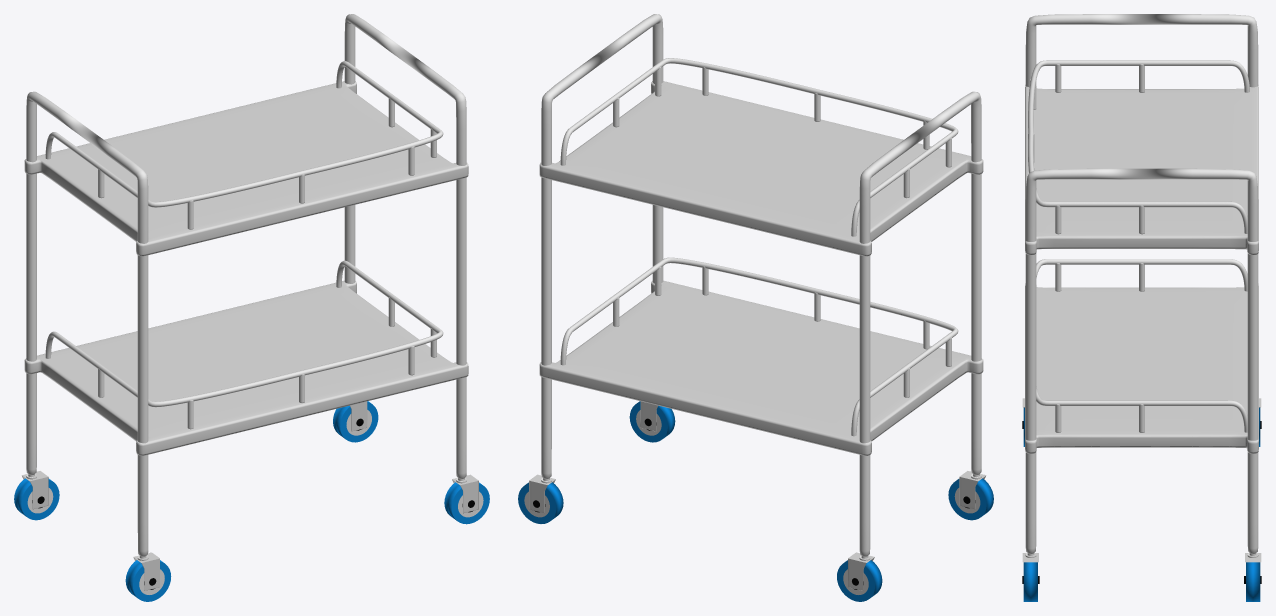
The model's file is Medical Cart.fbx.
The picture shows the model from 3 angles, left to right: view 1: azimuth 30°, elevation 25°; view 2: azimuth 150°, elevation 25°; view 3: azimuth 270°, elevation 25°; orthographic projection.
Visible parts, largest first — view 1: Plates, Frame, Wheels, Wheel Shields; view 2: Plates, Frame, Wheels, Wheel Shields; view 3: Plates, Frame, Wheels.
Boxes of the visible parts, x1,y1,x2,y2 form: Plates: [24, 81, 468, 455]; Frame: [26, 14, 466, 560]; Wheels: [14, 401, 489, 601]; Wheel Shields: [21, 401, 478, 590]; Plates: [539, 81, 983, 455]; Frame: [541, 14, 981, 560]; Wheels: [518, 401, 993, 601]; Wheel Shields: [529, 401, 986, 590]; Plates: [1025, 85, 1258, 453]; Frame: [1025, 14, 1258, 557]; Wheels: [1022, 407, 1261, 601].
Bounding box in the file's own units: 70.22 × 80.76 × 40.98.
